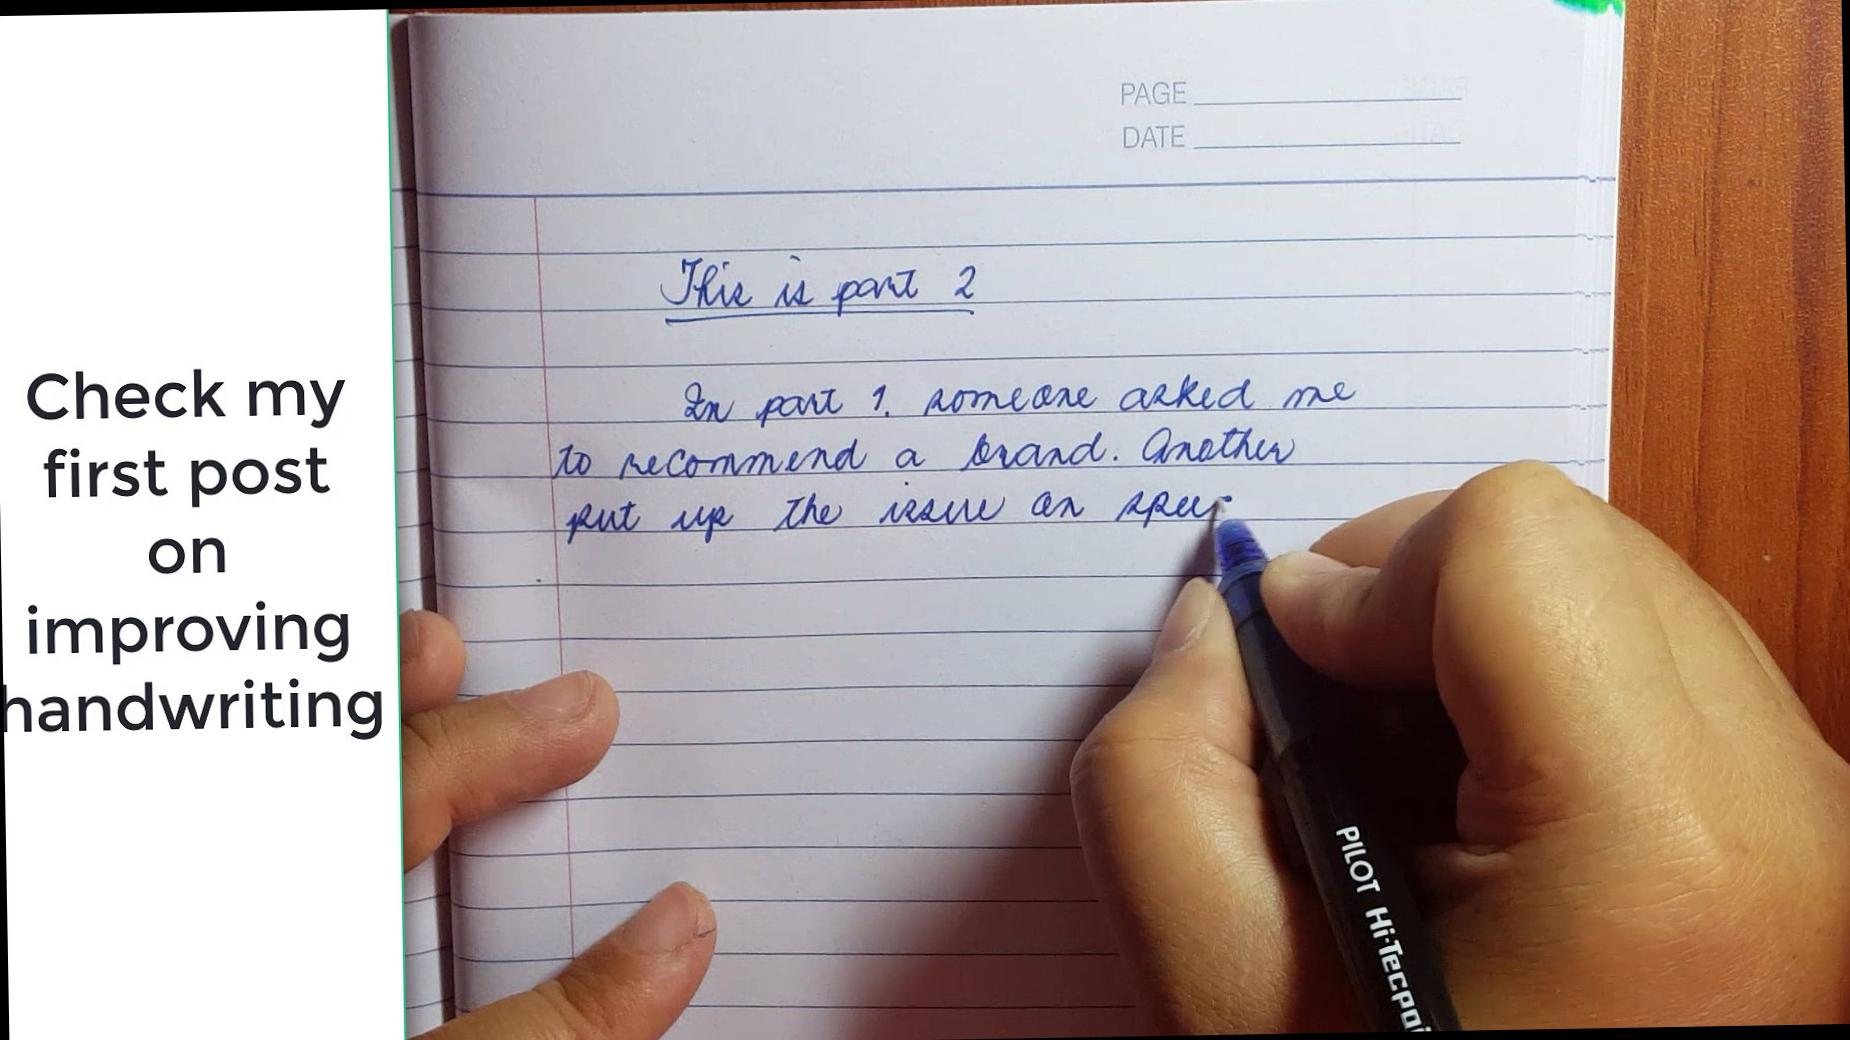text: (677, 358, 1360, 438), (548, 419, 1302, 490), (560, 480, 1233, 558), (2, 668, 388, 756), (19, 592, 352, 671), (650, 244, 980, 321), (18, 361, 349, 436), (38, 437, 338, 519), (144, 528, 232, 582), (1116, 121, 1190, 157), (1120, 79, 1194, 110)
